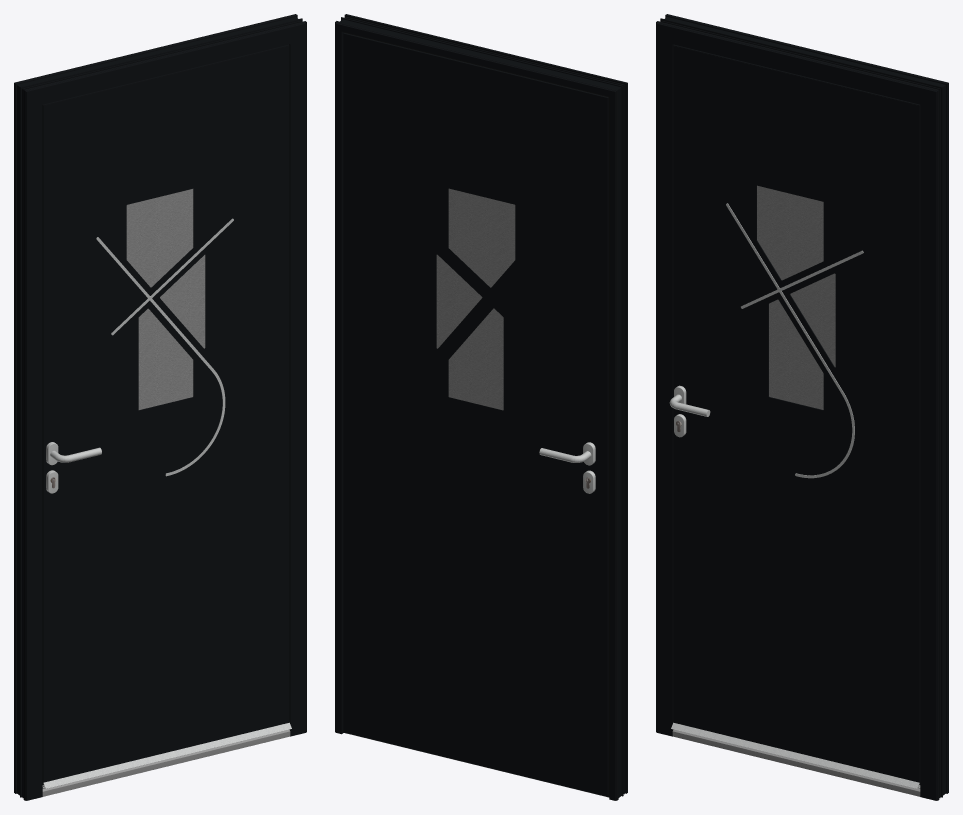
3 renders of one model, left to right at view 1: azimuth 30°, elevation 25°; view 2: azimuth 150°, elevation 25°; view 3: azimuth 330°, elevation 25°, orthographic.
Visible parts, largest first — view 1: bloco_46, aroFixo, Plane001, aroMovel, rodapé, escovas, alunox_30, puxador001; view 2: bloco_46, aroFixo, Plane002, aroMovel, puxador; view 3: bloco_46, aroFixo, Plane001, aroMovel, rodapé, escovas, alunox_30, puxador001.
Boxes of the visible parts, bbox=[...] form: bloco_46: bbox=[44, 46, 289, 782]; aroFixo: bbox=[14, 14, 306, 800]; Plane001: bbox=[126, 189, 205, 409]; aroMovel: bbox=[42, 44, 289, 784]; rodapé: bbox=[42, 729, 290, 796]; escovas: bbox=[42, 722, 291, 788]; alunox_30: bbox=[96, 218, 233, 476]; puxador001: bbox=[46, 442, 101, 493]; bloco_46: bbox=[344, 34, 607, 795]; aroFixo: bbox=[335, 14, 627, 800]; Plane002: bbox=[436, 188, 515, 410]; aroMovel: bbox=[343, 32, 609, 796]; puxador: bbox=[539, 442, 595, 493]; bloco_46: bbox=[673, 46, 918, 782]; aroFixo: bbox=[656, 14, 948, 800]; Plane001: bbox=[757, 185, 835, 409]; aroMovel: bbox=[673, 44, 920, 784]; rodapé: bbox=[672, 729, 920, 796]; escovas: bbox=[671, 722, 920, 788]; alunox_30: bbox=[726, 203, 863, 478]; puxador001: bbox=[669, 385, 710, 437].
Size of the model in its own units: 900 by 2165 by 209.
Materials: 7 (3 with a texture image).
